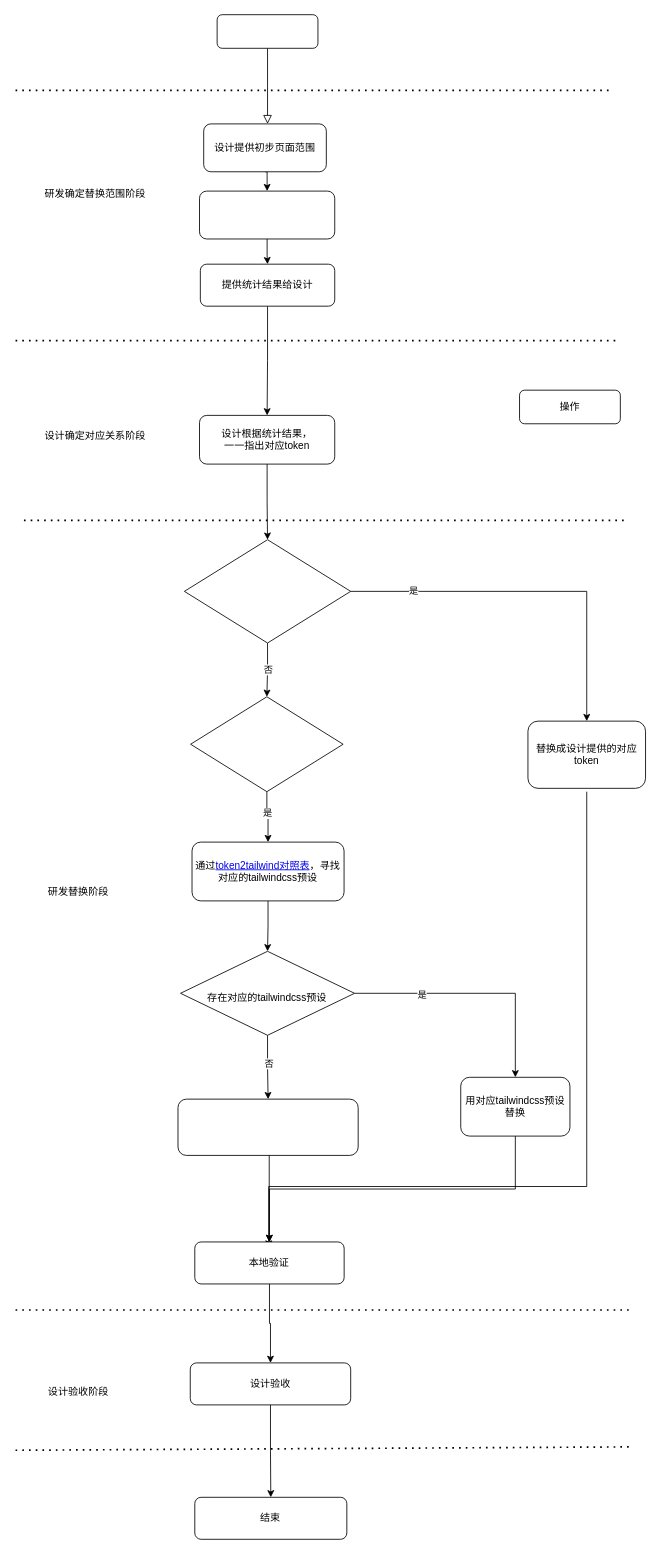
Some shapes in this 660 by 1554 pixel diagram are drawn without their labels. The shapes that lost their labels are listed below. From the top down, each one's box as (x1, y1, x2, y2) in pixels, then its label:
(216, 14, 318, 48): 开始
(199, 190, 335, 239): 研发根据页面排查需要替换的样式
(184, 539, 351, 643): 旧代码应用方式 是var变量 或者 具体数值？
(190, 696, 343, 792): 旧代码应用方式是 通过tailwindcss ？
(177, 1098, 358, 1155): 废弃tailwindcss方式，使用普通css样式编写以使用token
